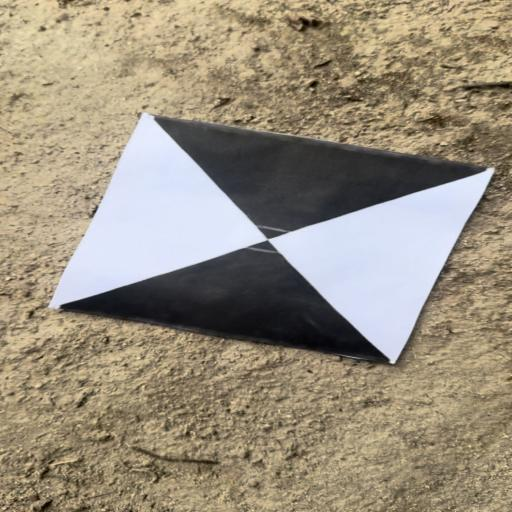target: (49, 113, 492, 361)
